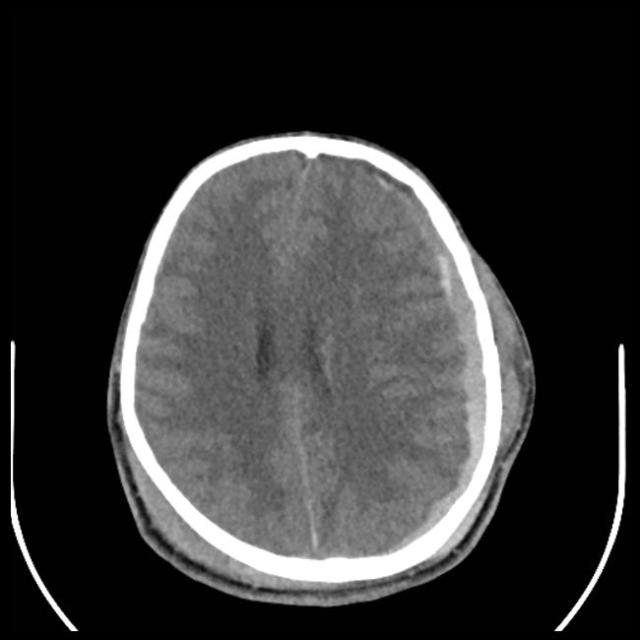lesion: (103, 127, 538, 605)
